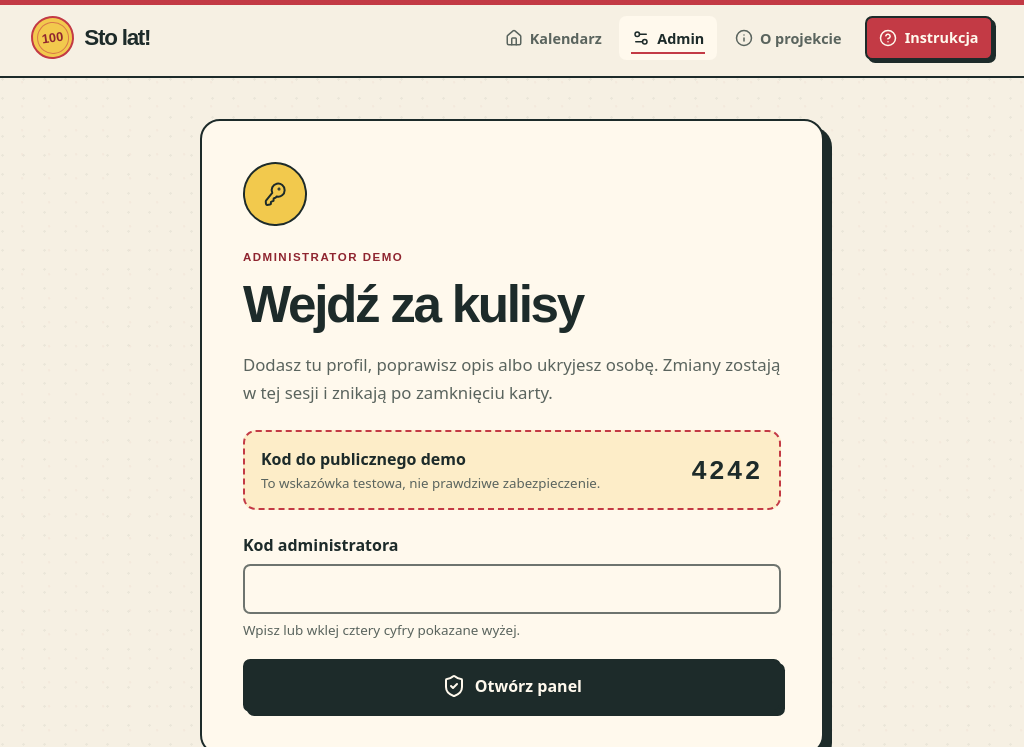
Scenario: kluczowe przepływy aplikacji › odblokowuje panel administratora kodem demo 4242
In the password field labelled "Kod administratora": (512, 588) [243, 564, 781, 614], type "4242"
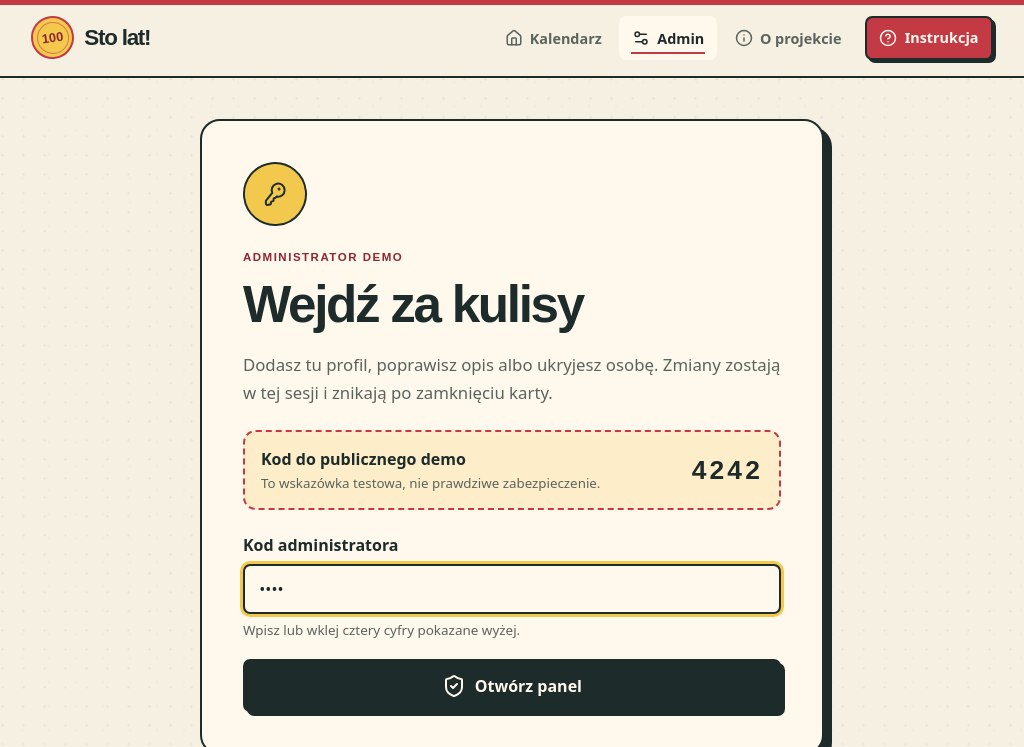
Click the button "Otwórz panel": (512, 686) [243, 659, 781, 712]
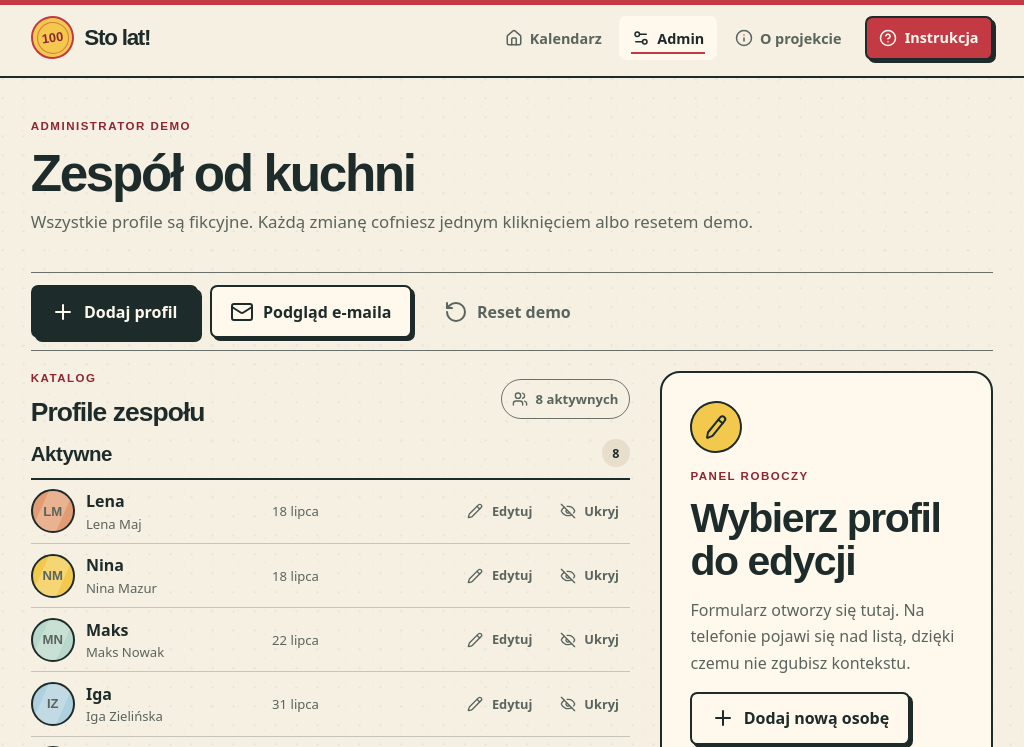
Result: the heading "Zespół od kuchni" is shown at [31, 145, 415, 202]
Result: the button "Dodaj profil" is enabled at [31, 286, 198, 338]
